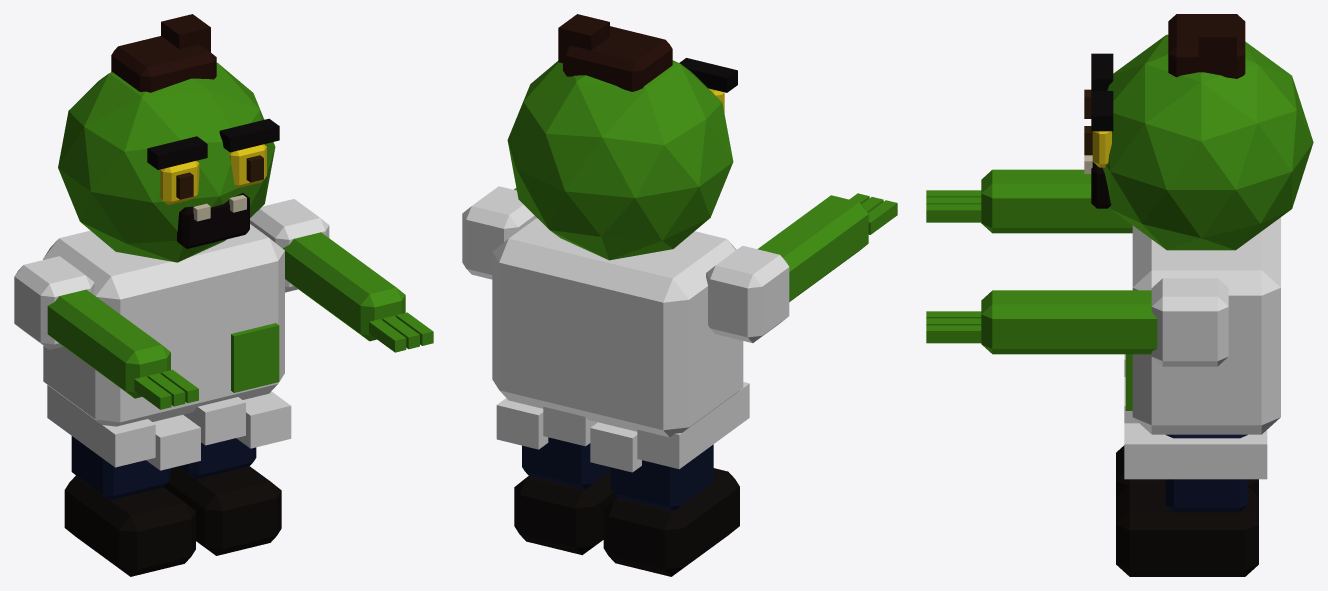
Rendered from zombie_b.glb.
The picture shows the model from 3 angles, left to right: view 1: azimuth 30°, elevation 25°; view 2: azimuth 150°, elevation 25°; view 3: azimuth 270°, elevation 25°; orthographic projection. The views are drawn at different scales.
Visible parts, largest first — view 1: zombie_b; view 2: zombie_b; view 3: zombie_b.
Boxes of the visible parts, box(x1,y1,x2,y2) form: zombie_b: box(14, 14, 433, 576); zombie_b: box(462, 14, 897, 576); zombie_b: box(926, 14, 1313, 576).
Bounding box in the file's own units: 0.64 × 1.05 × 0.7042.
